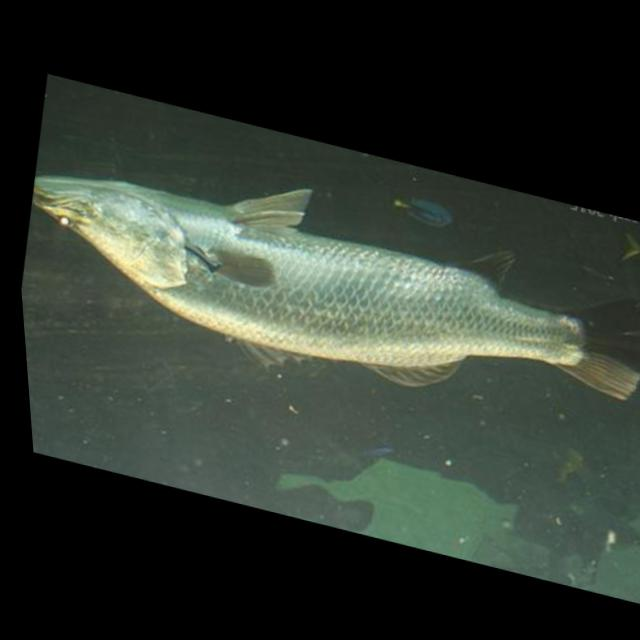Seabass: (9, 120, 640, 467)
